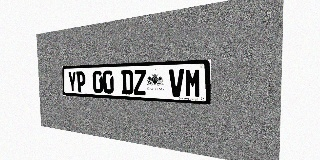0: (103, 70, 114, 94), (92, 71, 103, 93)
D: (121, 70, 133, 95)
M: (185, 68, 201, 98)
P: (76, 71, 86, 93)
V: (169, 69, 184, 97)
Y: (68, 71, 77, 92)
Z: (133, 70, 146, 95)
